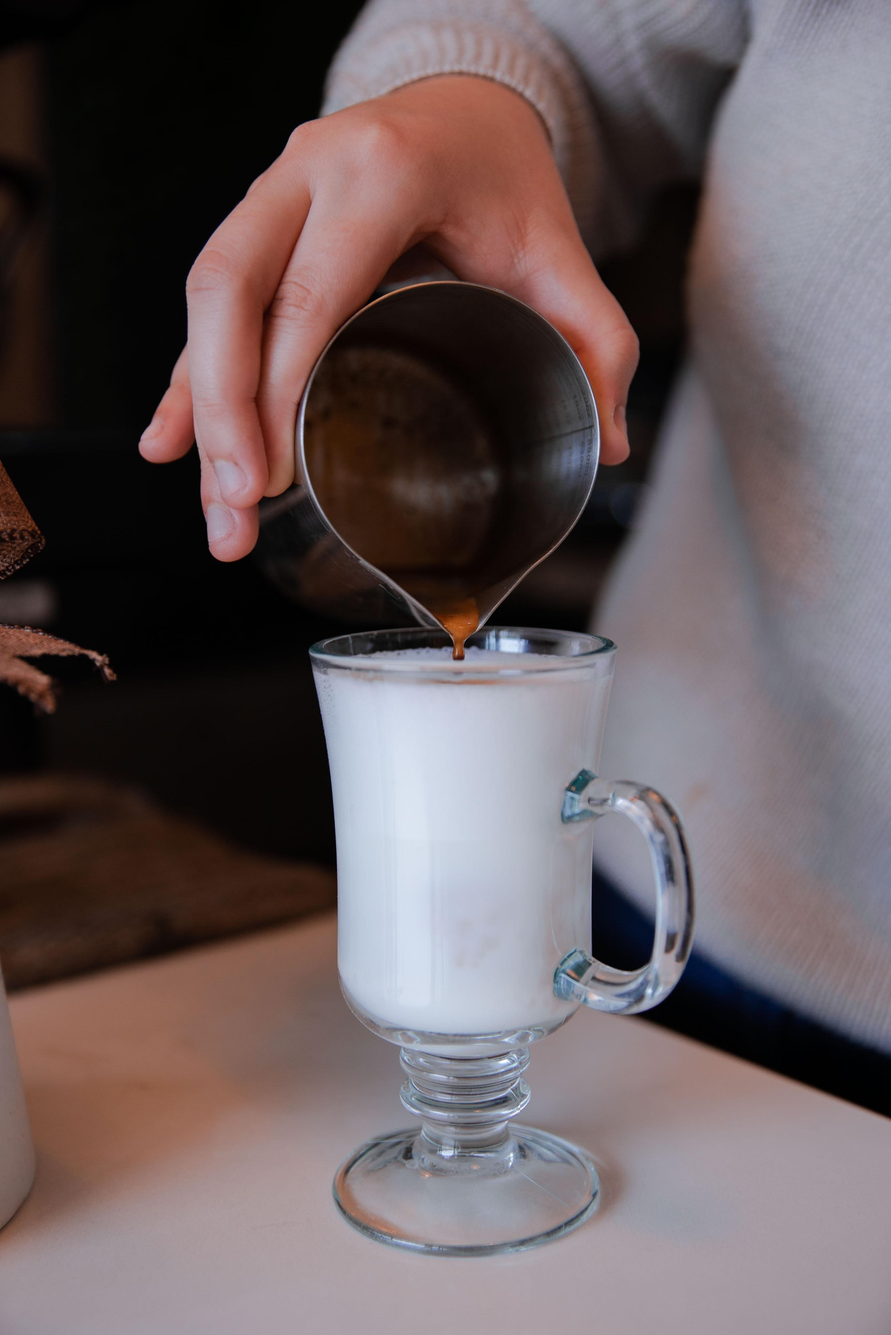glass-mug: (301, 614, 699, 1262)
